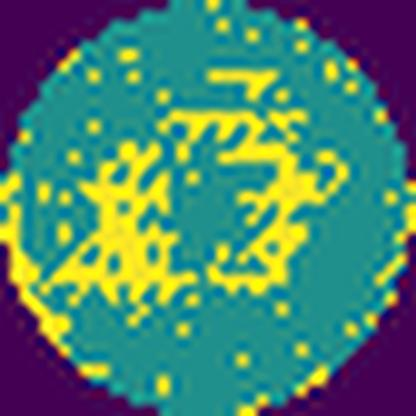Donut: (52, 100, 352, 314)
